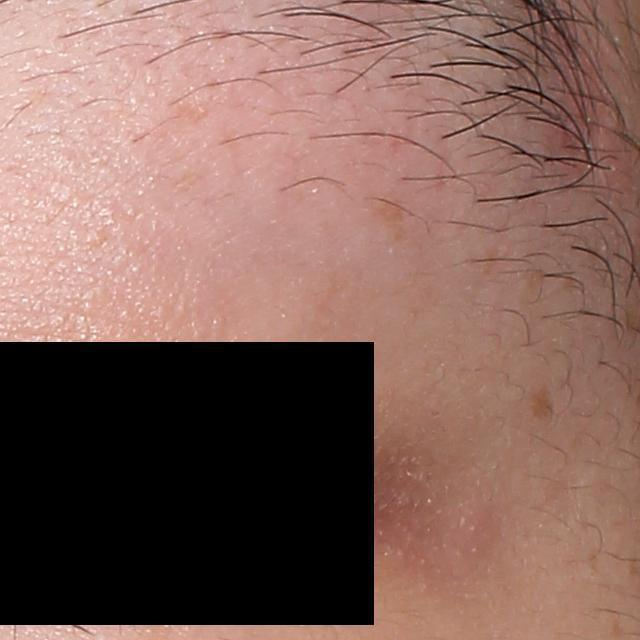melasma: (527, 376, 556, 422)
